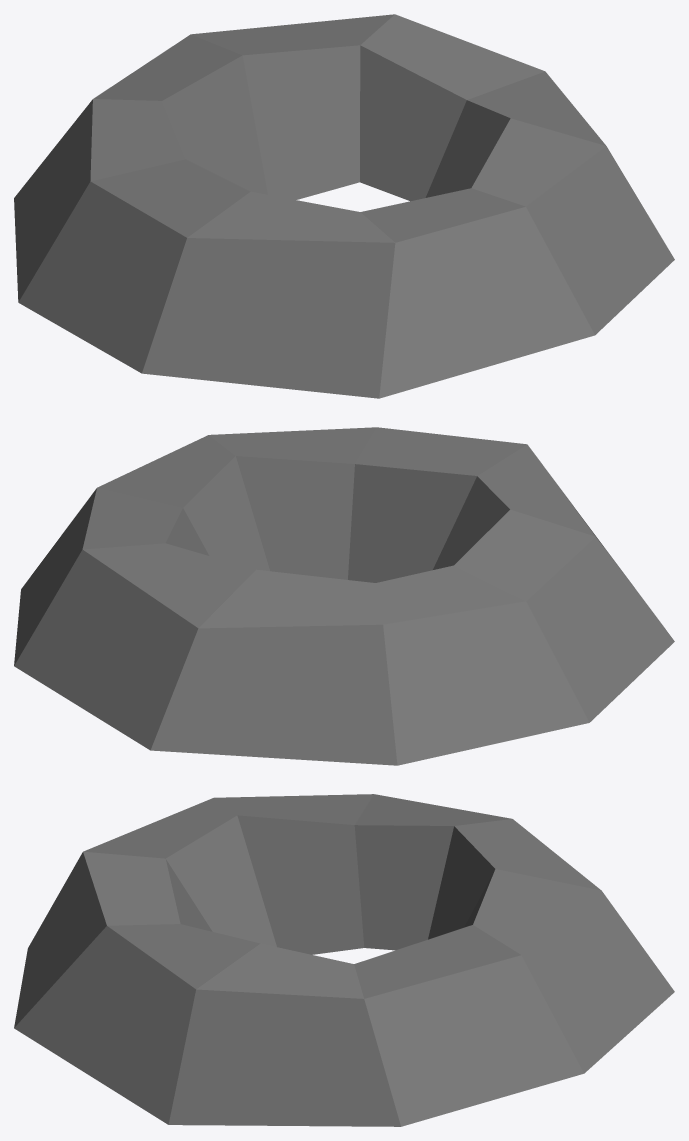
Rendered from crater.fbx.
3 renders of one model, top to bottom at view 1: azimuth 30°, elevation 25°; view 2: azimuth 150°, elevation 25°; view 3: azimuth 270°, elevation 25°, orthographic. The views are drawn at different scales.
Visible parts, largest first — view 1: Circle; view 2: Circle; view 3: Circle.
Part boxes in pixels (<box>): Circle: <box>14,14,674,398</box>; Circle: <box>14,427,674,765</box>; Circle: <box>14,794,674,1126</box>.
Bounding box in the file's own units: 39.93 × 9.38 × 41.57.
